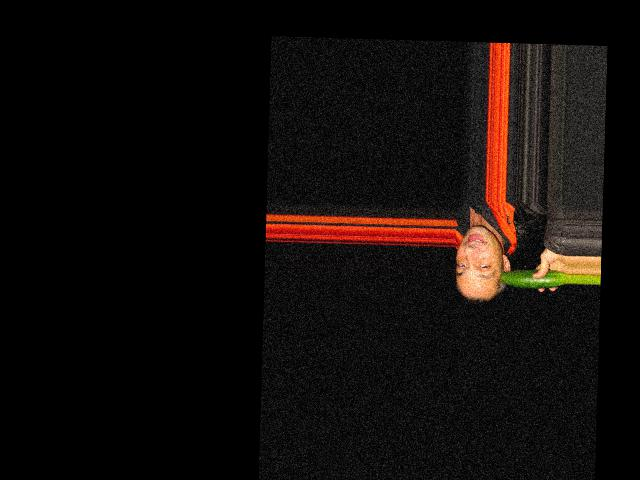cucumber: (499, 268, 565, 289)
